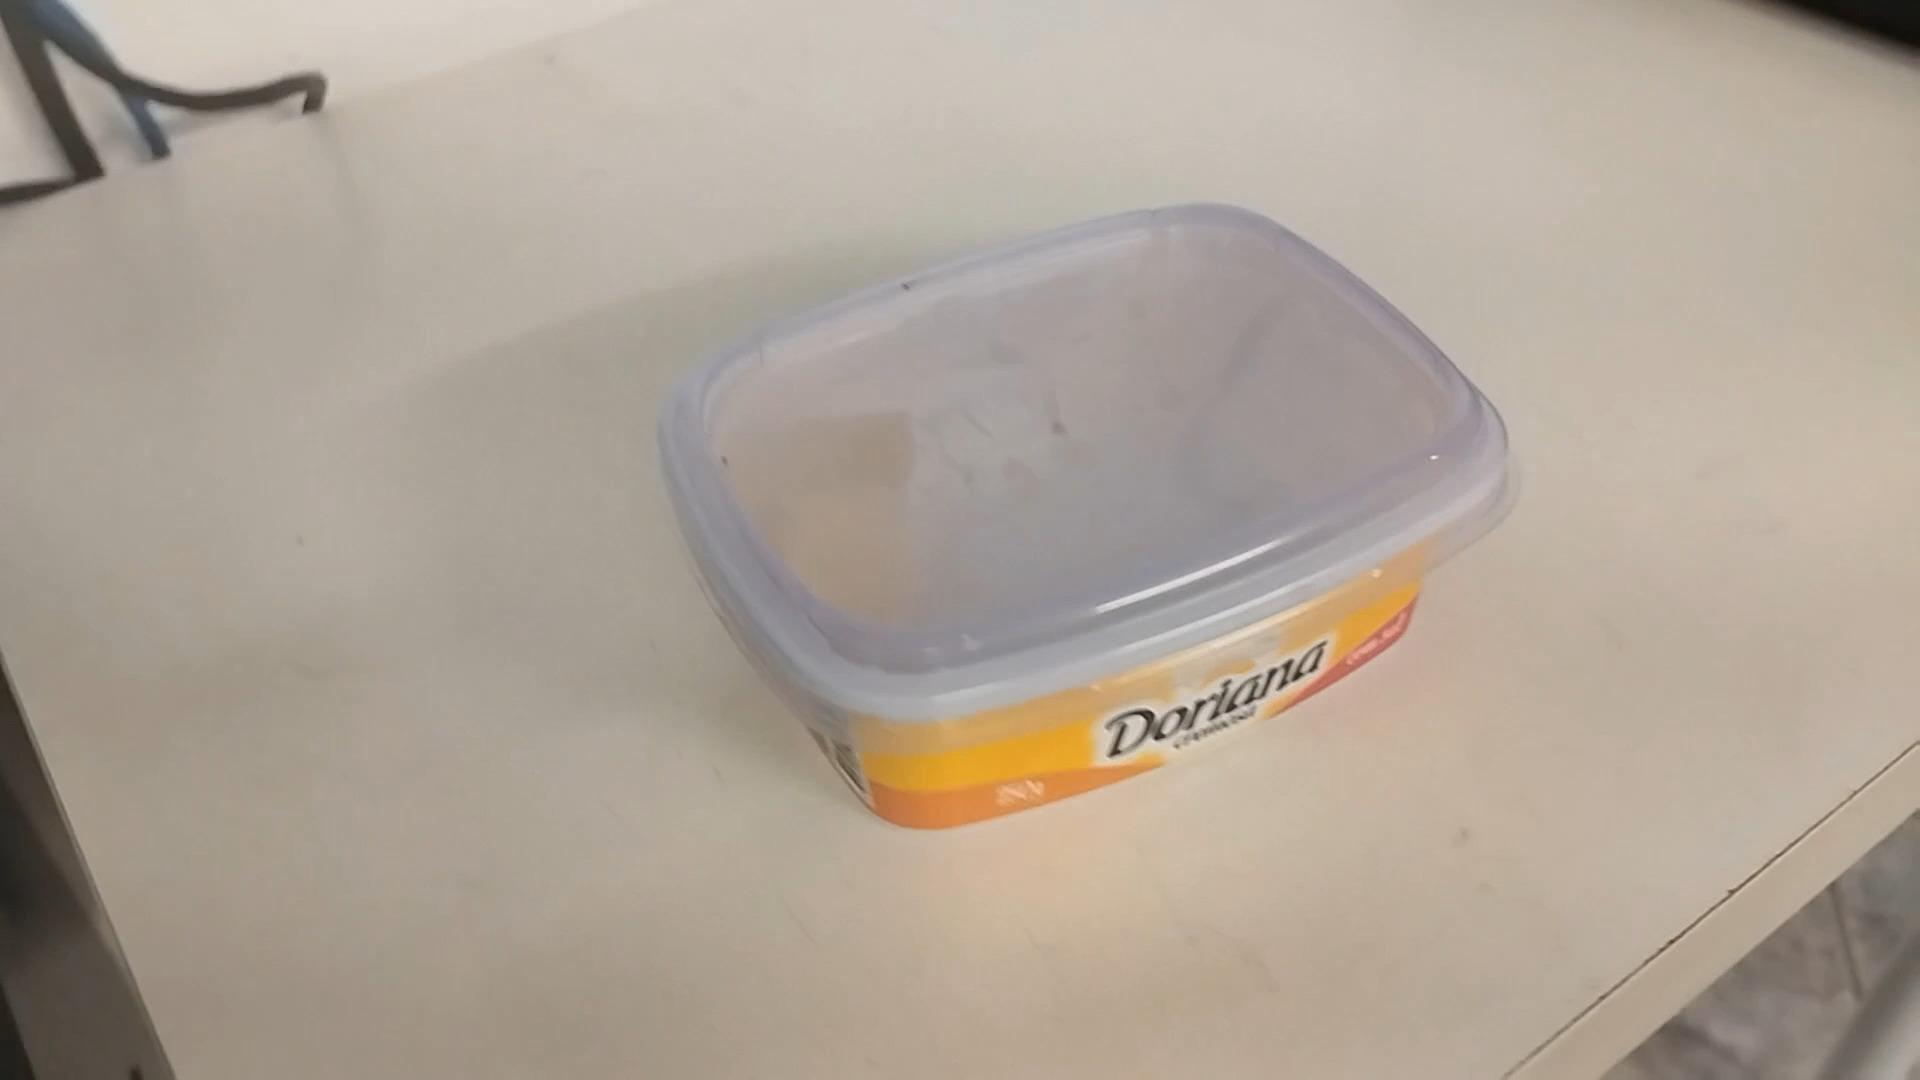butter: (662, 214, 1515, 832)
